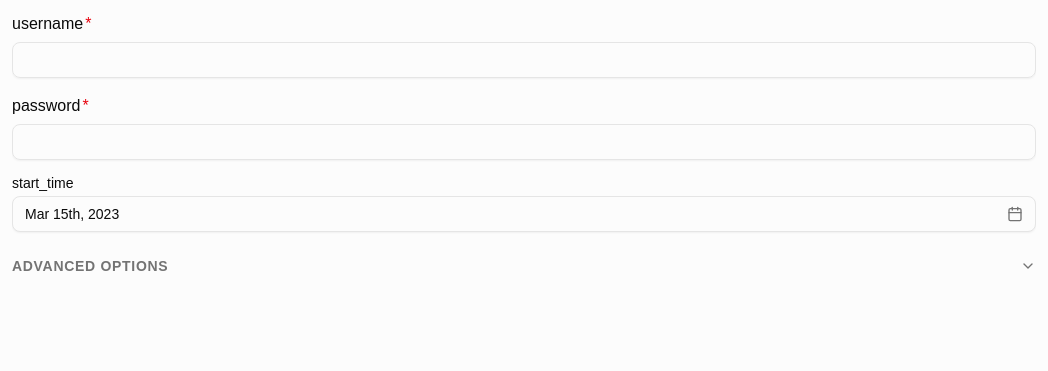
Scenario: KoboToolboxForm › keeps non-required fields behind the Advanced section until expanded
Check: the text "Exclude Fields" is not shown
Click the button with test id "kobo-advanced-trigger": (90, 266) top-left (12, 248), bottom-right (1036, 284)
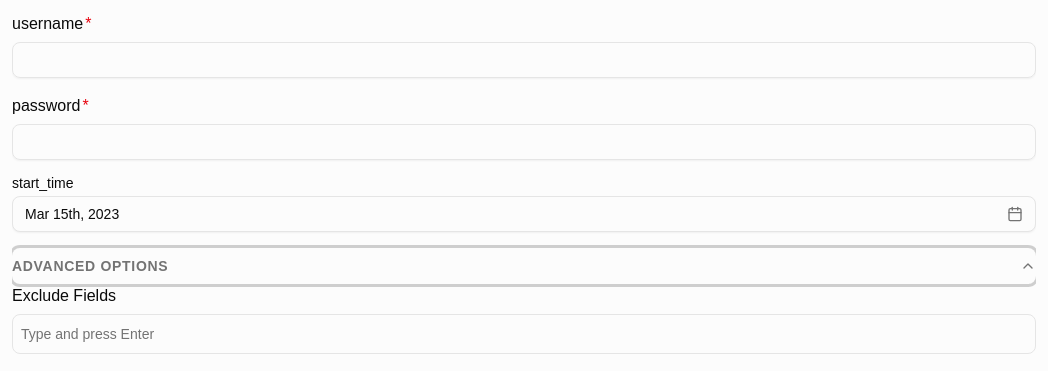
Check: the text "Exclude Fields" is shown, box top-left (12, 287), bottom-right (116, 304)
